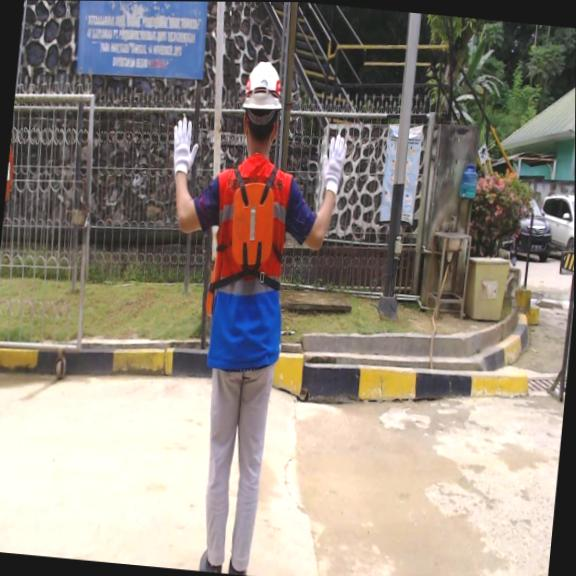safety_vest: (226, 180, 280, 271)
